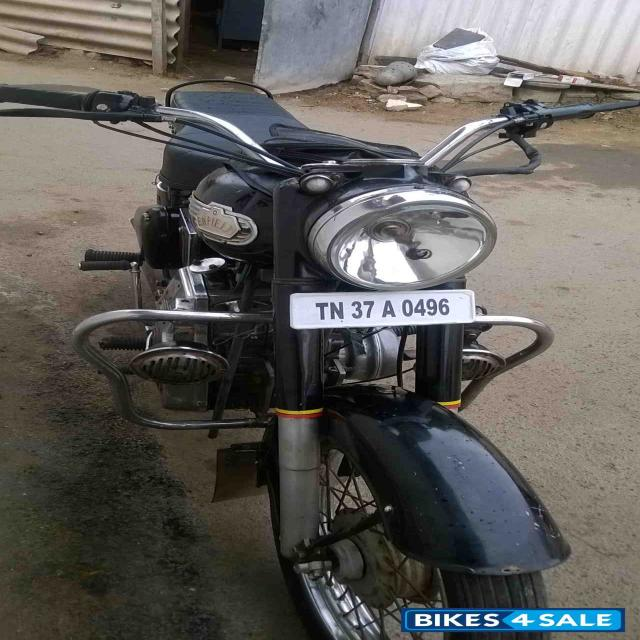license_plate: (287, 288, 476, 330)
